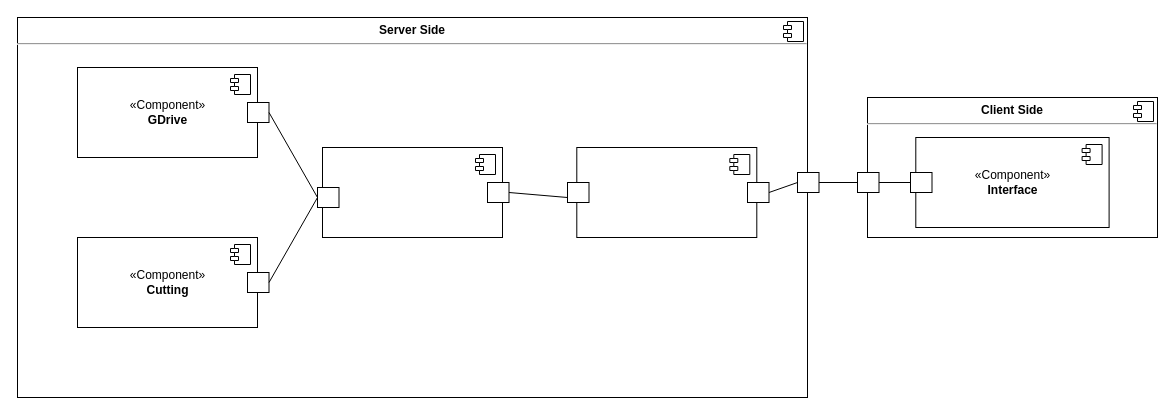
This 1175x415 diagram has some shape labels left out. Each missing label, with the box of its shape:
«Component» Dispatcher: (322, 146, 502, 238)
«Component» RequestHandler: (576, 146, 757, 238)
